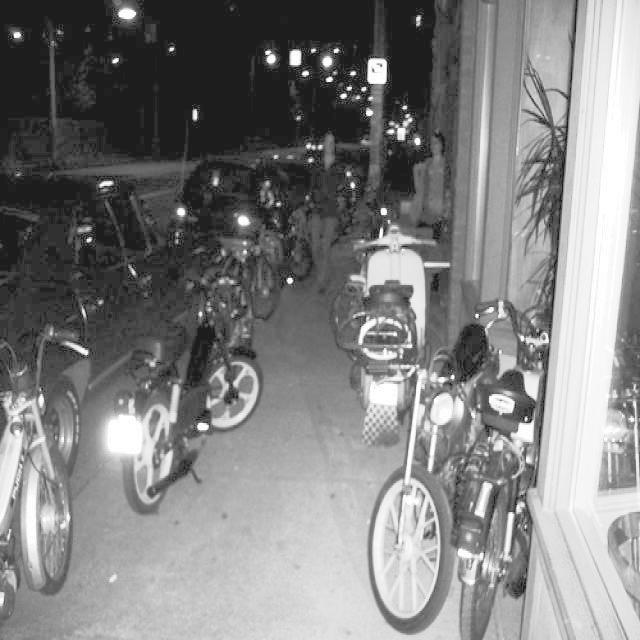Motorcycle: (386, 265, 496, 640), (130, 253, 277, 509), (456, 282, 551, 640), (3, 308, 87, 628), (346, 209, 439, 429)
